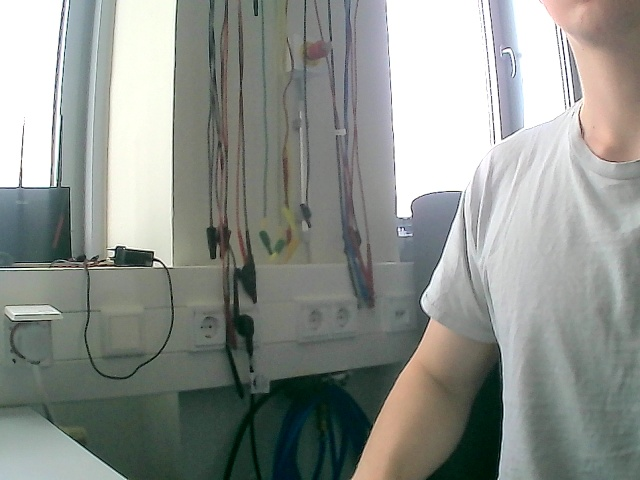no_gesture: (356, 433, 432, 480)
